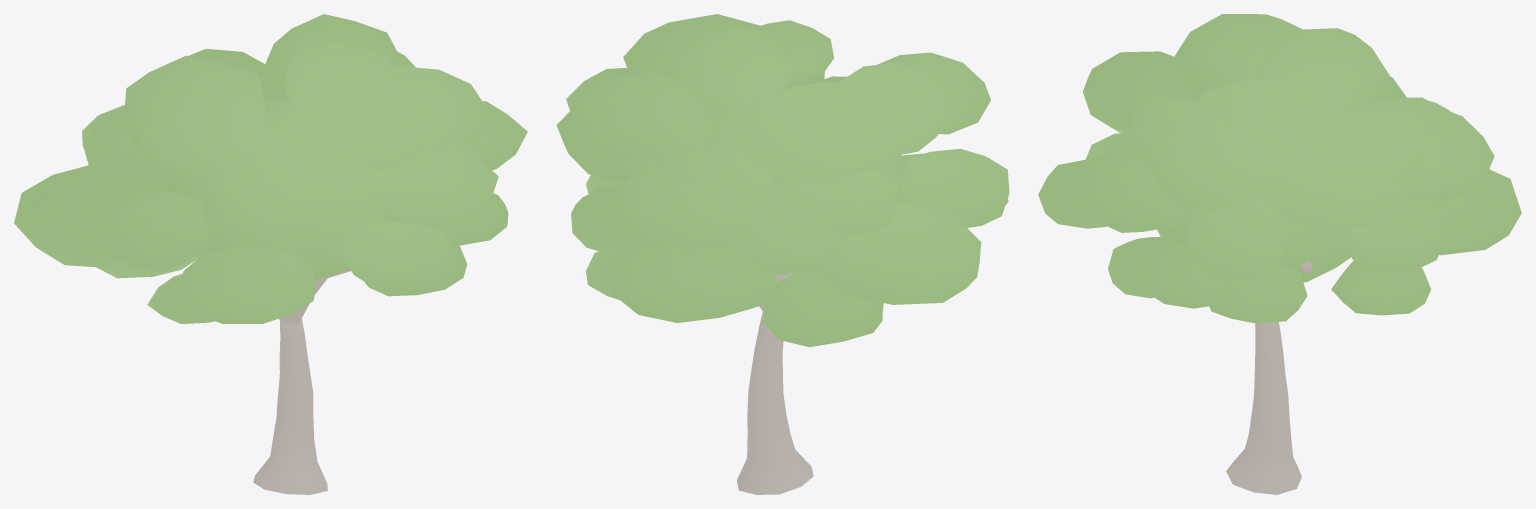
Rendered from Blender_LakeBlackOak_2.glb.
3 views of the same model, side by side, from view 1: azimuth 30°, elevation 25°; view 2: azimuth 150°, elevation 25°; view 3: azimuth 270°, elevation 25° (orthographic). The views are drawn at different scales.
Visible parts, largest first — view 1: Blender_LakeBlackOak_2; view 2: Blender_LakeBlackOak_2; view 3: Blender_LakeBlackOak_2.
Boxes of the visible parts, bbox=[...] form: Blender_LakeBlackOak_2: bbox=[14, 14, 527, 494]; Blender_LakeBlackOak_2: bbox=[556, 14, 1009, 494]; Blender_LakeBlackOak_2: bbox=[1038, 14, 1521, 494].
Size of the model in its own units: 15.82 by 14.53 by 15.2.
